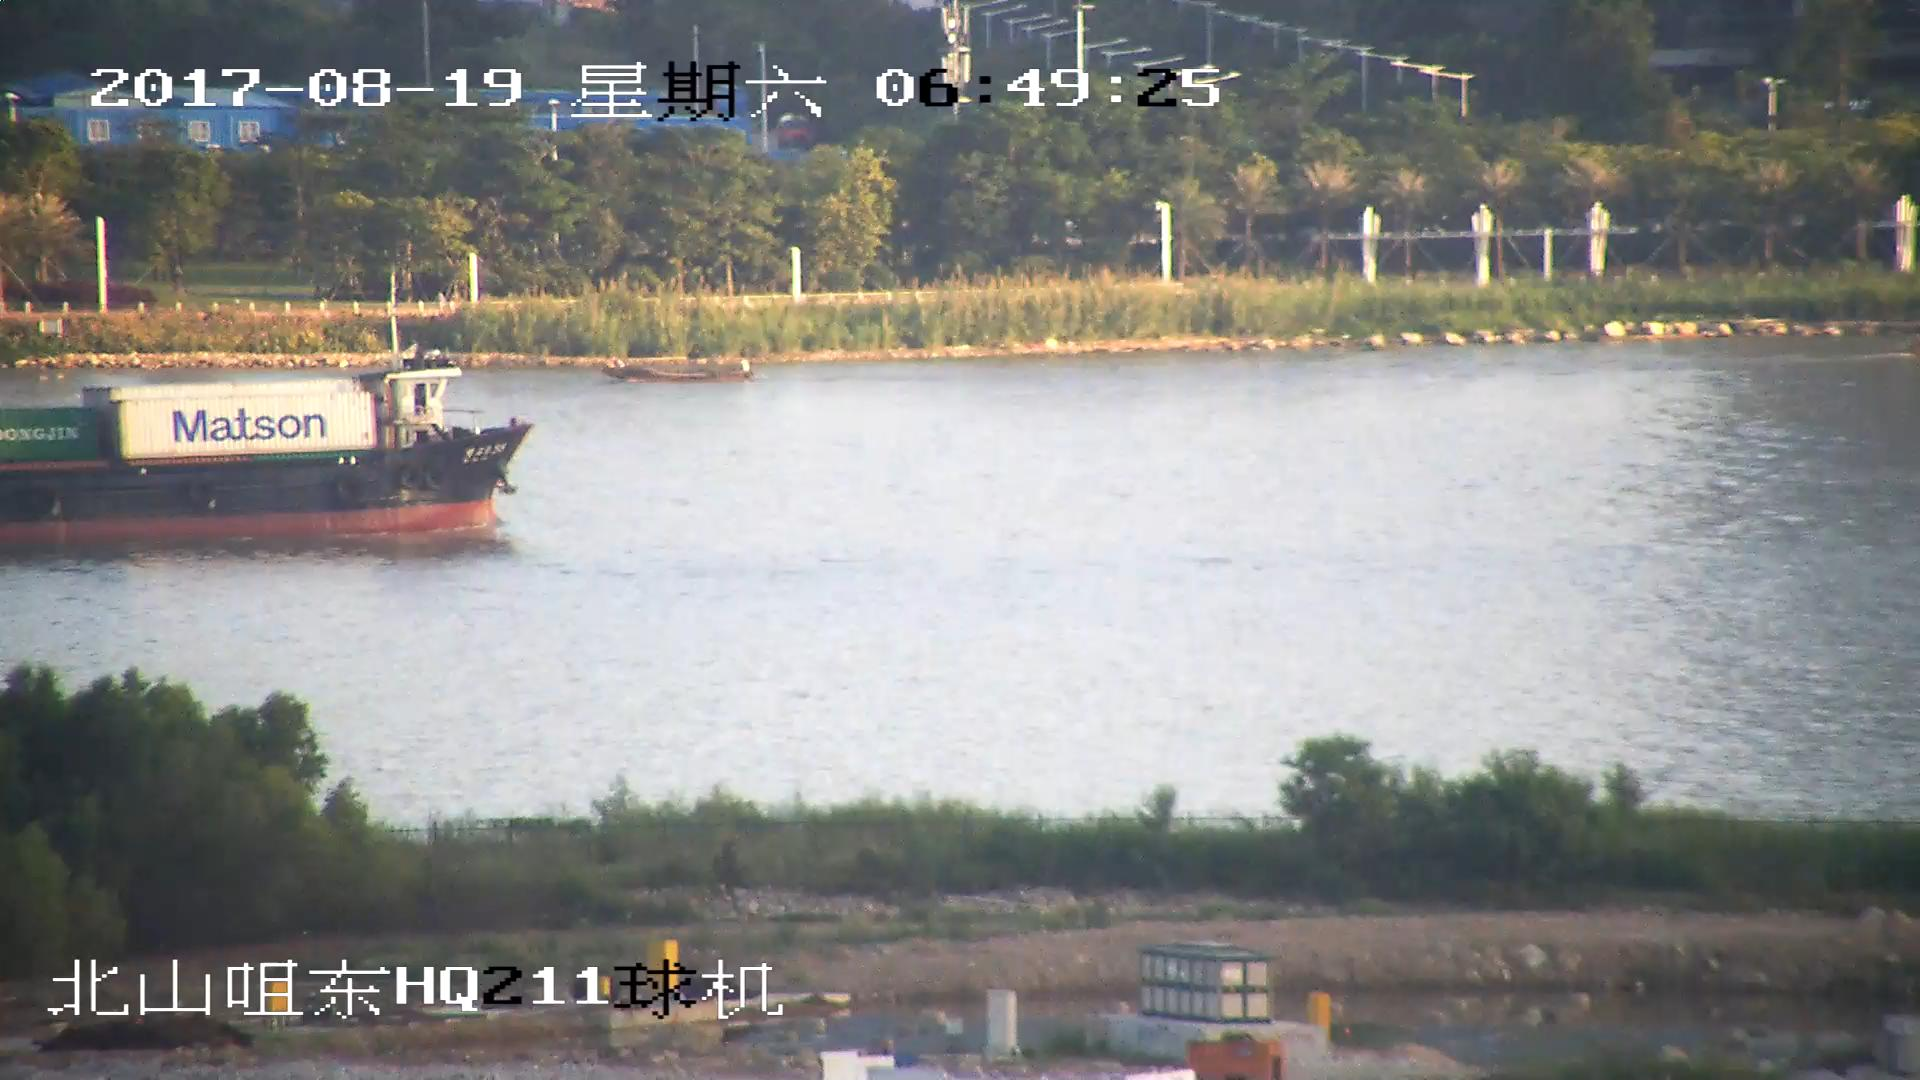container ship: (1, 329, 528, 540)
fishing boat: (592, 345, 750, 387)
